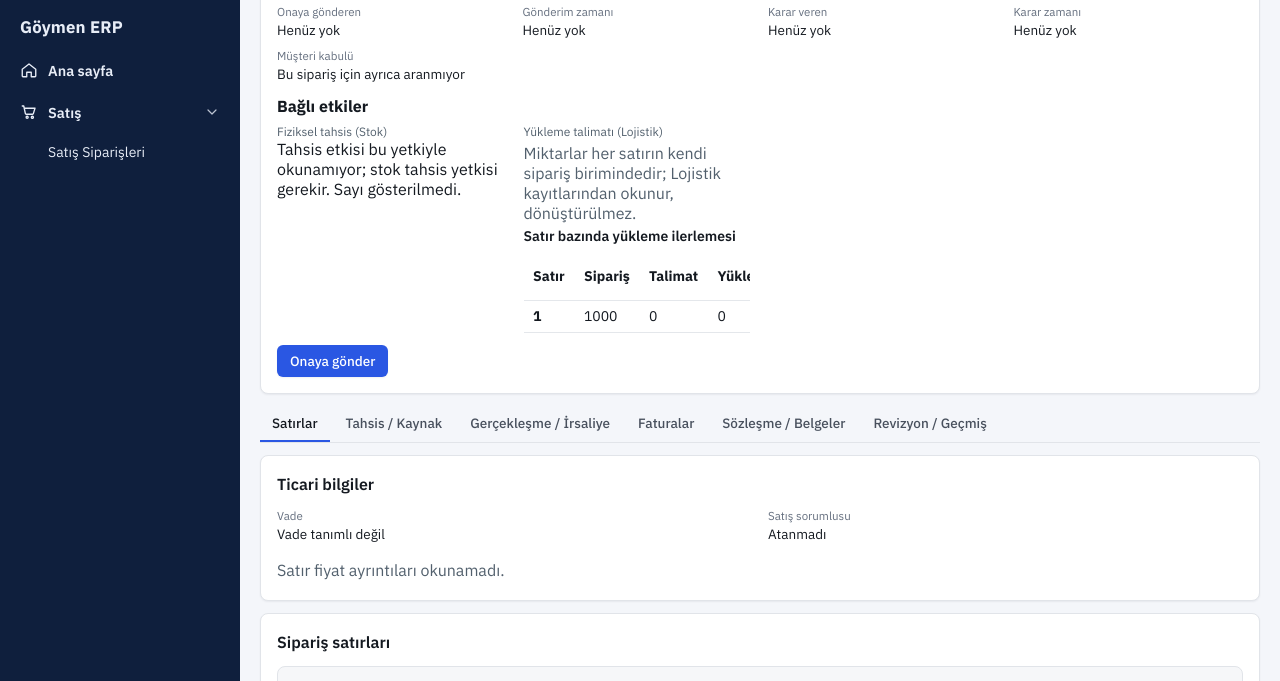
Test: S-04 commands › submits with one key and the draft version, then re-reads the detail the server answers
(page scrolled)
What coordinates should you click on to do the following:
click the button "Onaya gönder"
I would click on:
 (333, 361)
Its box is x1=277 y1=345 x2=388 y2=377.
(page scrolled)
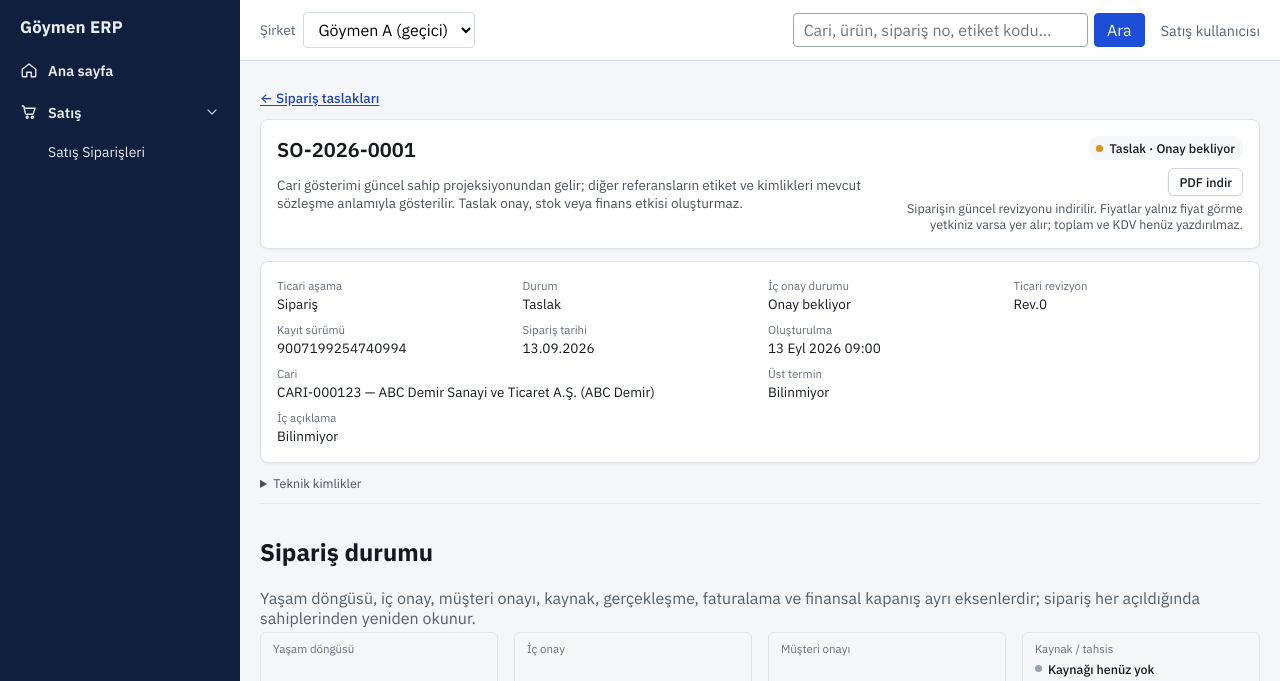
expect the button "Onaya gönder" is not shown: met
expect the text with test id "sales-draft-approval-state" reads "Onay bekliyor": met, box x1=768 y1=295 x2=851 y2=313
expect the text with test id "sales-draft-version" reads "9007199254740994": met, box x1=277 y1=339 x2=407 y2=357
